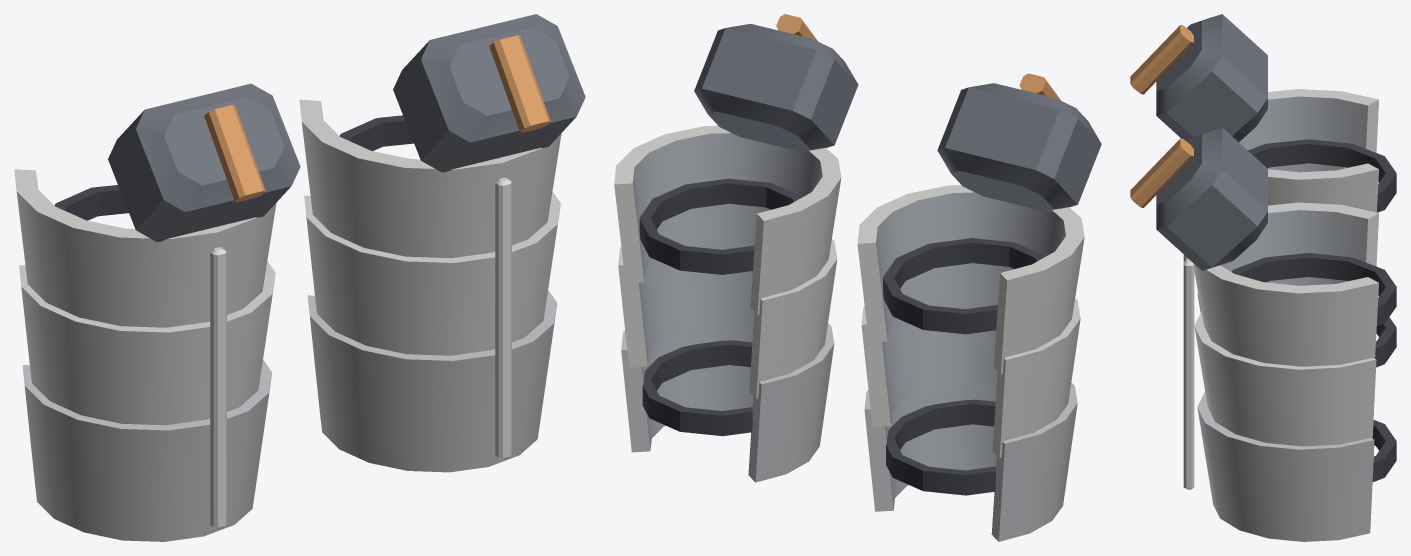
The model's file is gear_jambieres.glb.
3 views of the same model, side by side, from view 1: azimuth 30°, elevation 25°; view 2: azimuth 150°, elevation 25°; view 3: azimuth 270°, elevation 25° (orthographic). The views are drawn at different scales.
Visible parts, largest first — view 1: shin_r__jambieres, shin_l__jambieres, shin_l__jambieres_glow, shin_r__jambieres_glow; view 2: shin_r__jambieres, shin_l__jambieres; view 3: shin_l__jambieres, shin_r__jambieres, shin_l__jambieres_glow.
Boxes of the visible parts, x1,y1,x2,y2 form: shin_r__jambieres: (14, 83, 300, 541); shin_l__jambieres: (299, 14, 585, 472); shin_l__jambieres_glow: (495, 177, 511, 459); shin_r__jambieres_glow: (210, 247, 226, 529); shin_r__jambieres: (857, 73, 1101, 541); shin_l__jambieres: (614, 14, 858, 482); shin_l__jambieres: (1130, 127, 1396, 541); shin_r__jambieres: (1130, 14, 1396, 367); shin_l__jambieres_glow: (1183, 259, 1194, 489).
Size of the model in its own units: 0.27 by 0.2233 by 0.1488.
